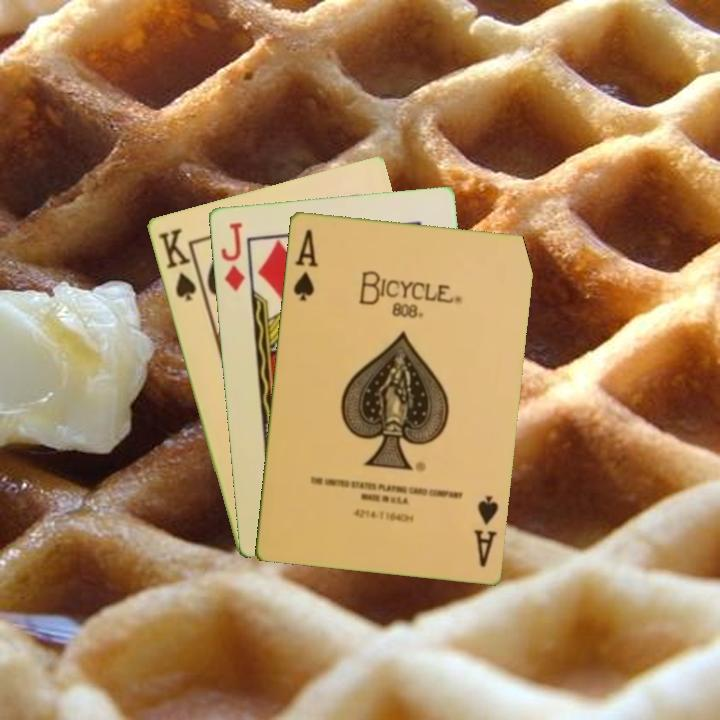As: (289, 225, 321, 304), (470, 491, 501, 570)
Jd: (217, 219, 248, 295)
Ks: (154, 224, 199, 304)
